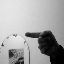g: (24, 29, 58, 57)
